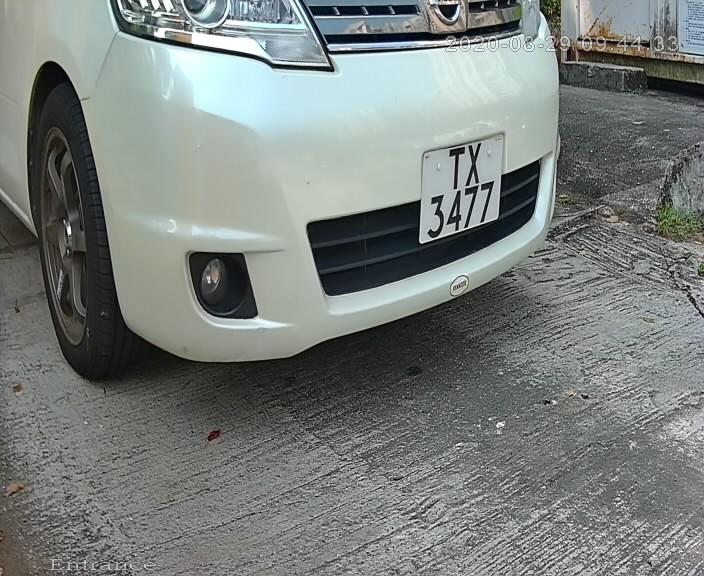License Plate: (412, 119, 510, 253)
